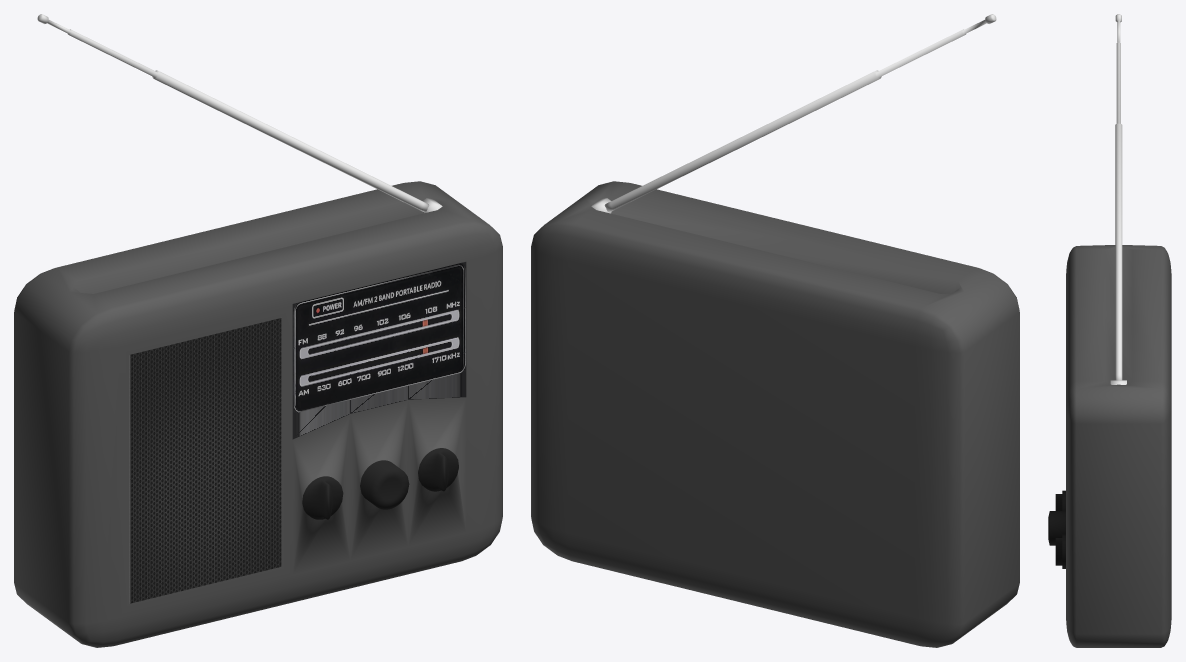
The model's file is radio.fbx.
3 renders of one model, left to right at view 1: azimuth 30°, elevation 25°; view 2: azimuth 150°, elevation 25°; view 3: azimuth 270°, elevation 25°, orthographic. The views are drawn at different scales.
Parts seen in each view (by area): view 1: Cube; view 2: Cube; view 3: Cube.
Part boxes in pixels (x1,y1,x2,y2): Cube: [14, 14, 502, 647]; Cube: [531, 14, 1019, 647]; Cube: [1048, 14, 1171, 647].
Size of the model in its own units: 270 by 367 by 85.2.
